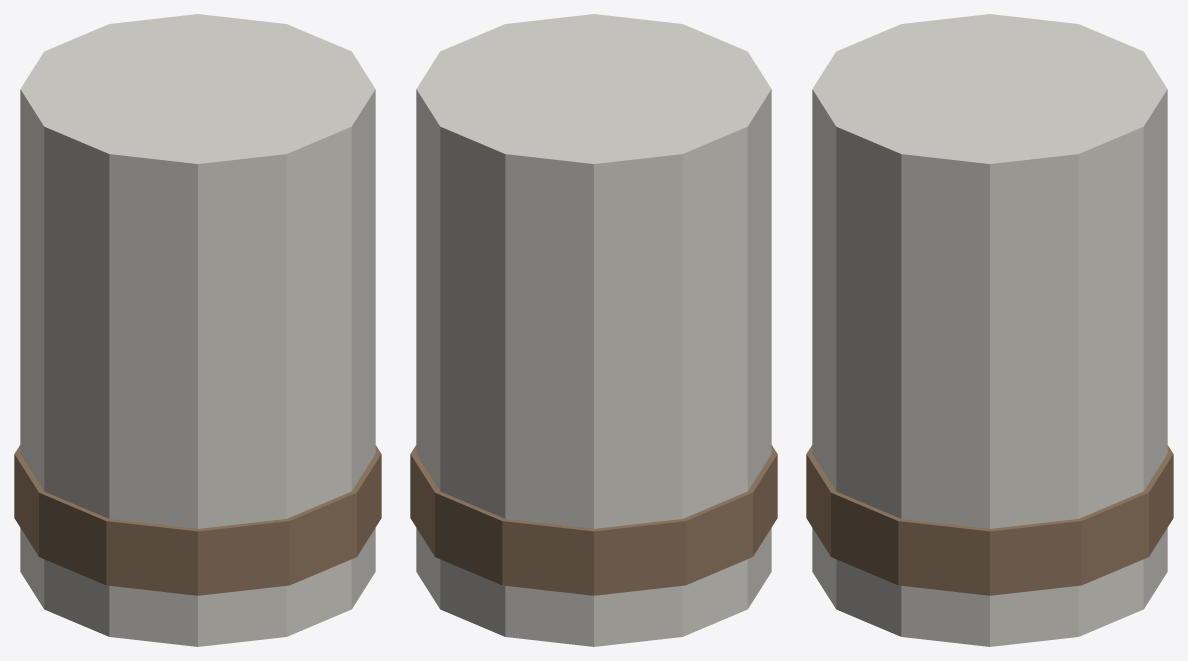
Rendered from feudal-japan-castle-town-futon-roll-1365dd6d__26426.glb.
3 views of the same model, side by side, from view 1: azimuth 30°, elevation 25°; view 2: azimuth 150°, elevation 25°; view 3: azimuth 270°, elevation 25° (orthographic).
Parts seen in each view (by area): view 1: futon-roll; view 2: futon-roll; view 3: futon-roll.
Boxes of the visible parts, x1,y1,x2,y2 form: futon-roll: [14, 14, 381, 646]; futon-roll: [410, 14, 777, 646]; futon-roll: [806, 14, 1173, 646].
Bounding box in the file's own units: 0.62 × 0.9 × 0.62.
